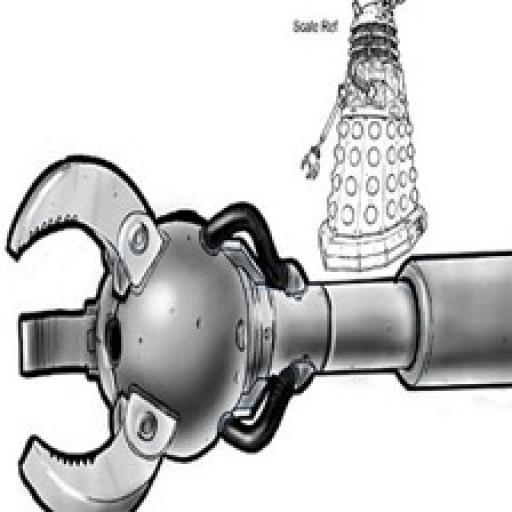dalek: (295, 0, 433, 272)
